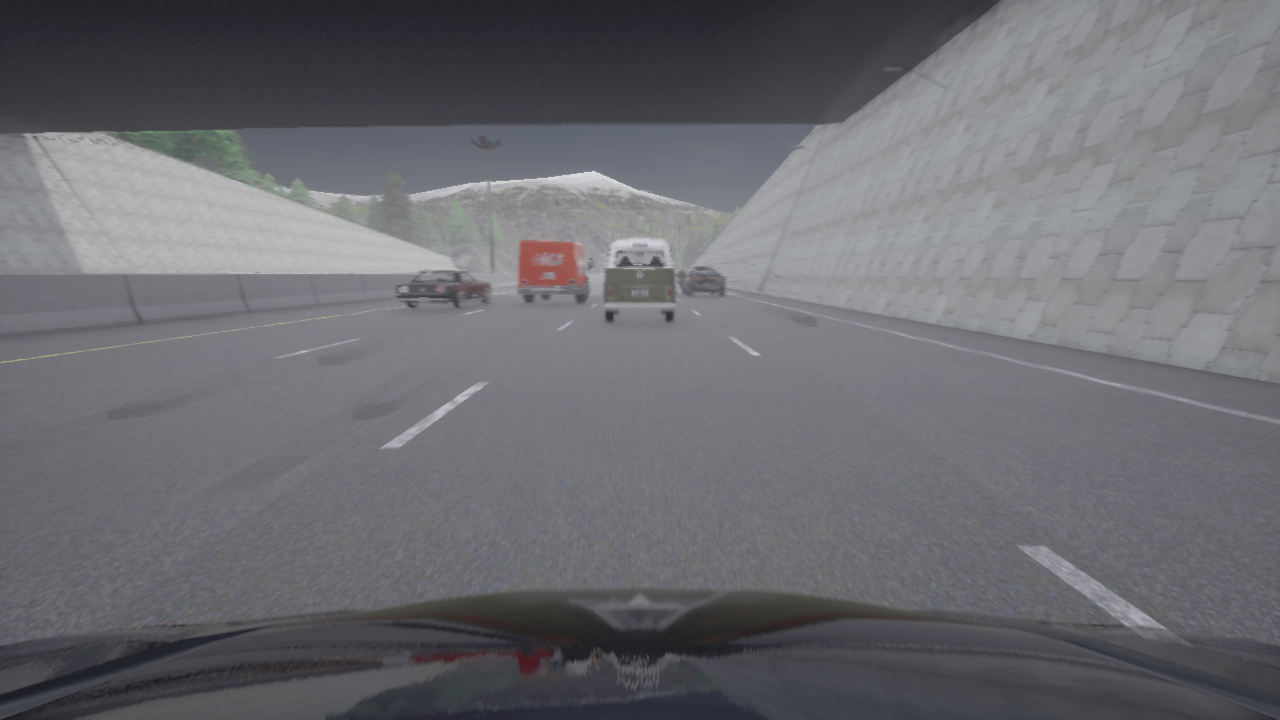cyclist: (0, 588, 1279, 719), (603, 238, 676, 321), (518, 241, 592, 302), (395, 271, 491, 308), (682, 267, 725, 295), (679, 274, 684, 287)
